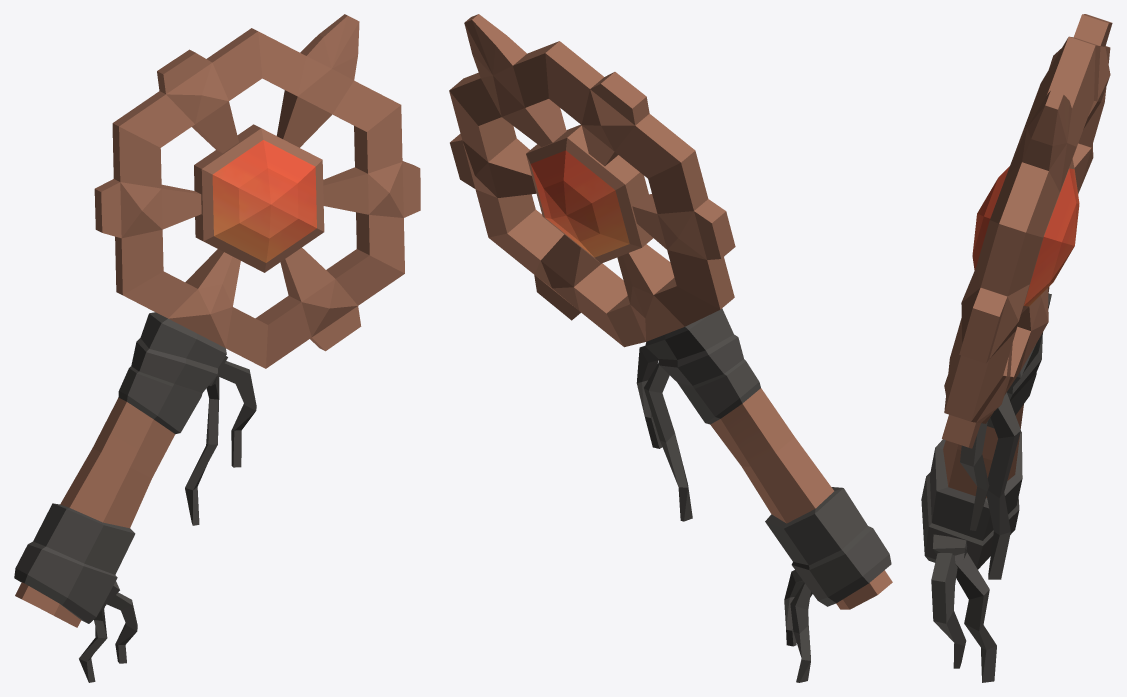
File: talismanFire.fbx
The picture shows the model from 3 angles, left to right: view 1: azimuth 30°, elevation 25°; view 2: azimuth 150°, elevation 25°; view 3: azimuth 270°, elevation 25°; orthographic projection. The views are drawn at different scales.
Parts seen in each view (by area): view 1: talismanFire; view 2: talismanFire; view 3: talismanFire.
Part boxes in pixels (x1,y1,x2,y2): talismanFire: [14, 14, 420, 682]; talismanFire: [449, 14, 892, 682]; talismanFire: [921, 14, 1112, 682].
Bounding box in the file's own units: 1.25 × 1.7 × 0.3812.
